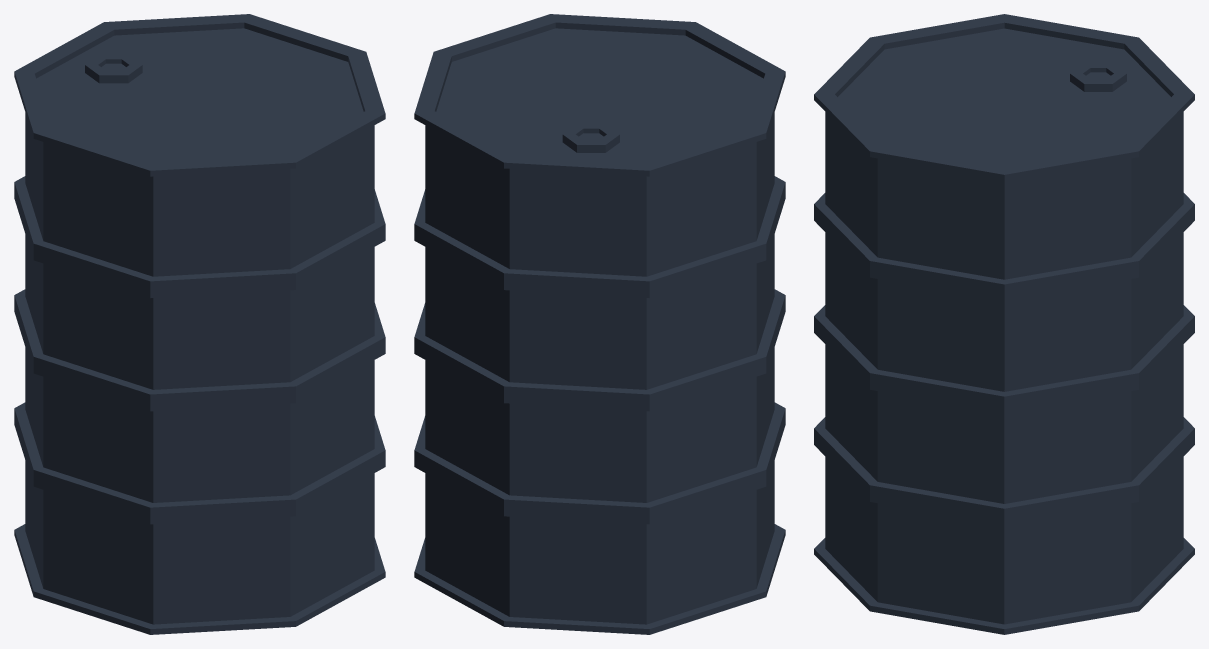
The model's file is asset_barril.fbx.
3 views of the same model, side by side, from view 1: azimuth 30°, elevation 25°; view 2: azimuth 150°, elevation 25°; view 3: azimuth 270°, elevation 25° (orthographic).
Visible parts, largest first — view 1: barril; view 2: barril; view 3: barril.
Part boxes in pixels (x1,y1,x2,y2): barril: (14, 14, 385, 634); barril: (414, 14, 785, 634); barril: (814, 14, 1194, 634).
Size of the model in its own units: 86.85 by 116 by 86.85.
